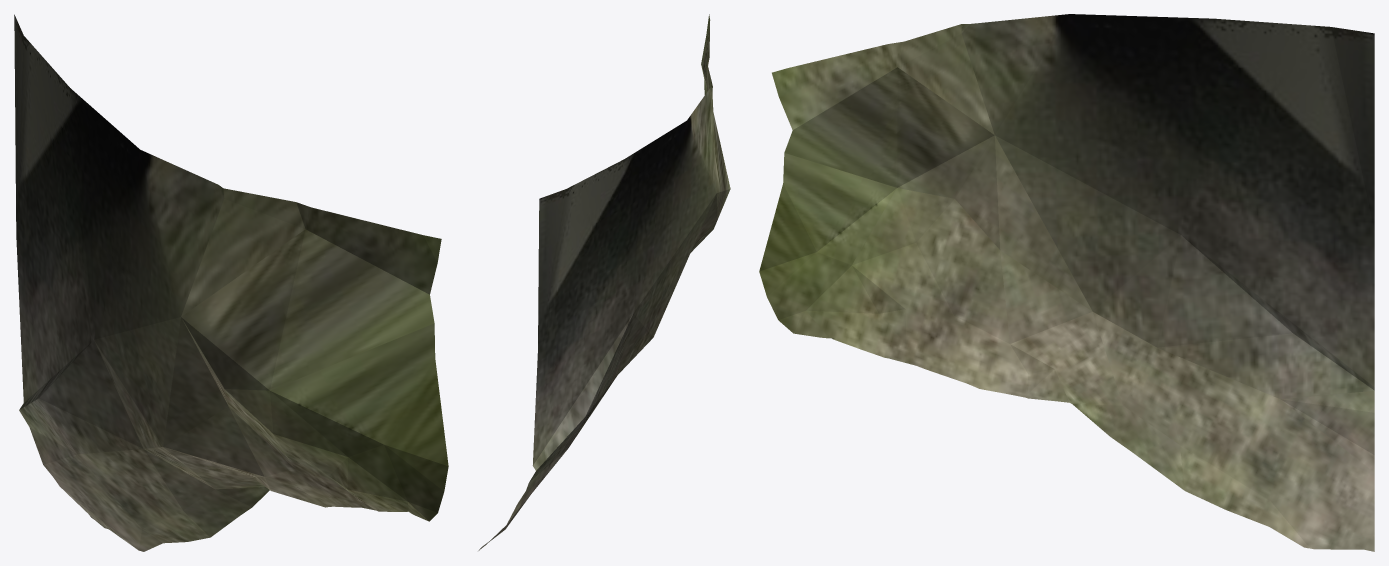
The picture shows the model from 3 angles, left to right: view 1: azimuth 30°, elevation 25°; view 2: azimuth 150°, elevation 25°; view 3: azimuth 270°, elevation 25°; orthographic projection. The views are drawn at different scales.
Bounding box in the file's own units: 1.25 × 4.71 × 5.48.
2 materials, 2 textured.
